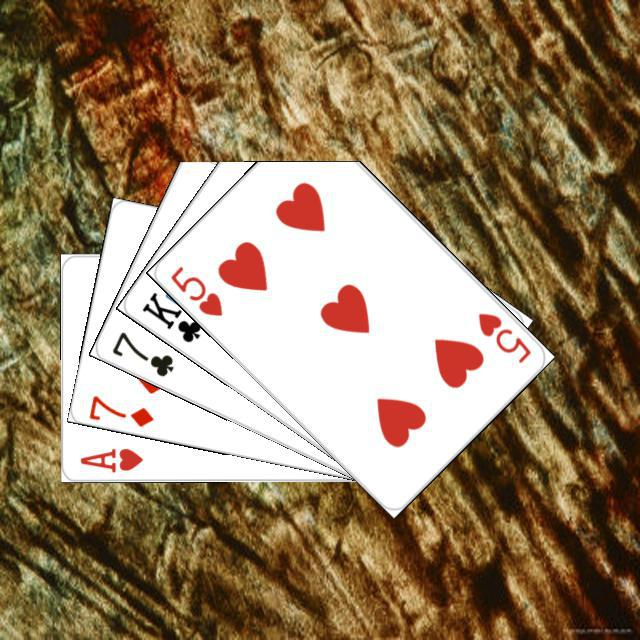5h: (165, 261, 225, 318), (473, 308, 533, 365)
7c: (107, 327, 176, 379)
7d: (84, 390, 156, 429)
Ah: (75, 444, 145, 474)
Kc: (137, 287, 216, 345)
